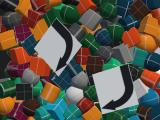Right: (34, 18, 82, 76), (92, 64, 139, 114)
